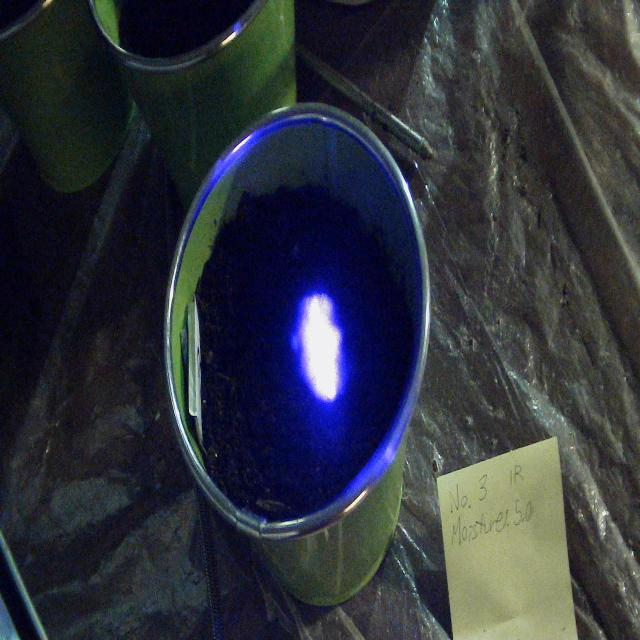soil-moisture-5.0: (294, 292, 348, 406)
